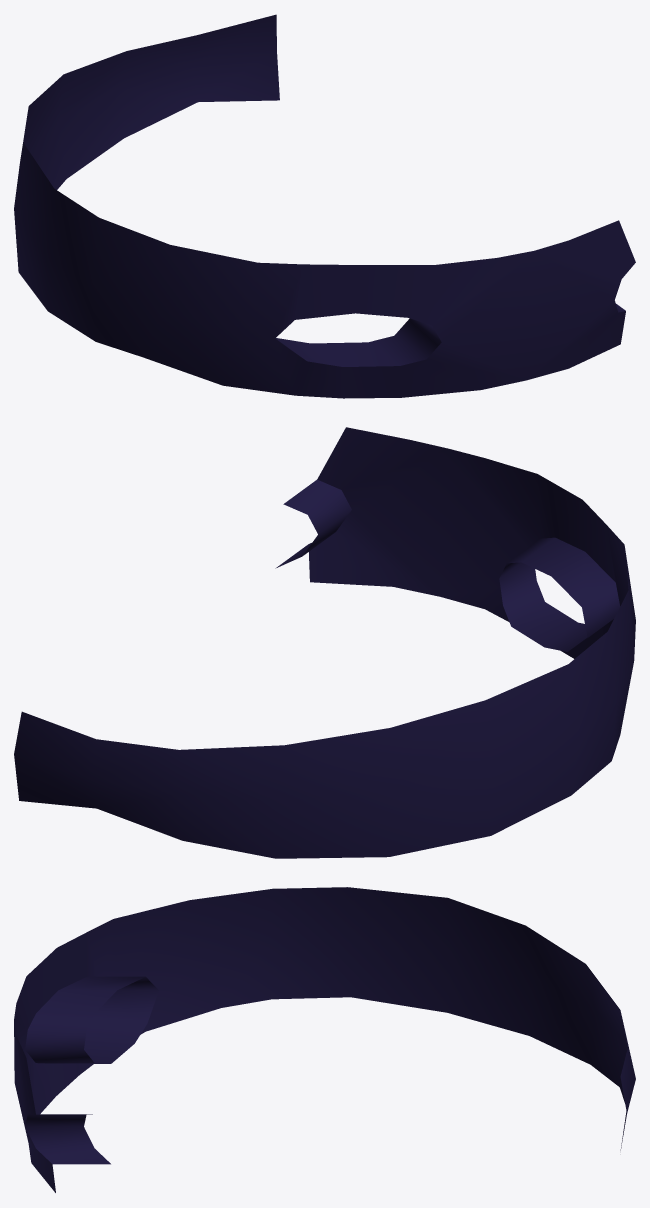
The model's file is Headband1.fbx.
3 views of the same model, one above another, from view 1: azimuth 30°, elevation 25°; view 2: azimuth 150°, elevation 25°; view 3: azimuth 270°, elevation 25° (orthographic). The views are drawn at different scales.
Visible parts, largest first — view 1: Headband; view 2: Headband; view 3: Headband.
Boxes of the visible parts, left/top/right/bottom form: Headband: left=14, top=14, right=635, bottom=398; Headband: left=14, top=427, right=635, bottom=858; Headband: left=14, top=887, right=635, bottom=1192.
Bounding box in the file's own units: 42.6 × 13.83 × 59.97.
